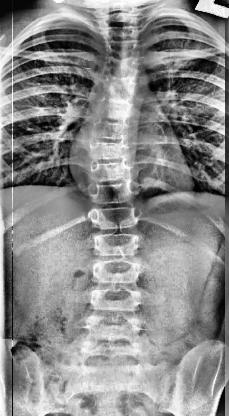Vertebrae: (83, 312, 145, 342), (88, 283, 146, 315), (87, 200, 145, 230), (92, 228, 144, 260), (90, 256, 144, 286), (87, 176, 139, 206), (87, 136, 139, 164), (95, 72, 147, 98), (87, 158, 137, 184), (86, 118, 140, 142), (92, 94, 140, 119), (100, 36, 146, 60), (99, 56, 145, 78), (100, 22, 146, 40)
